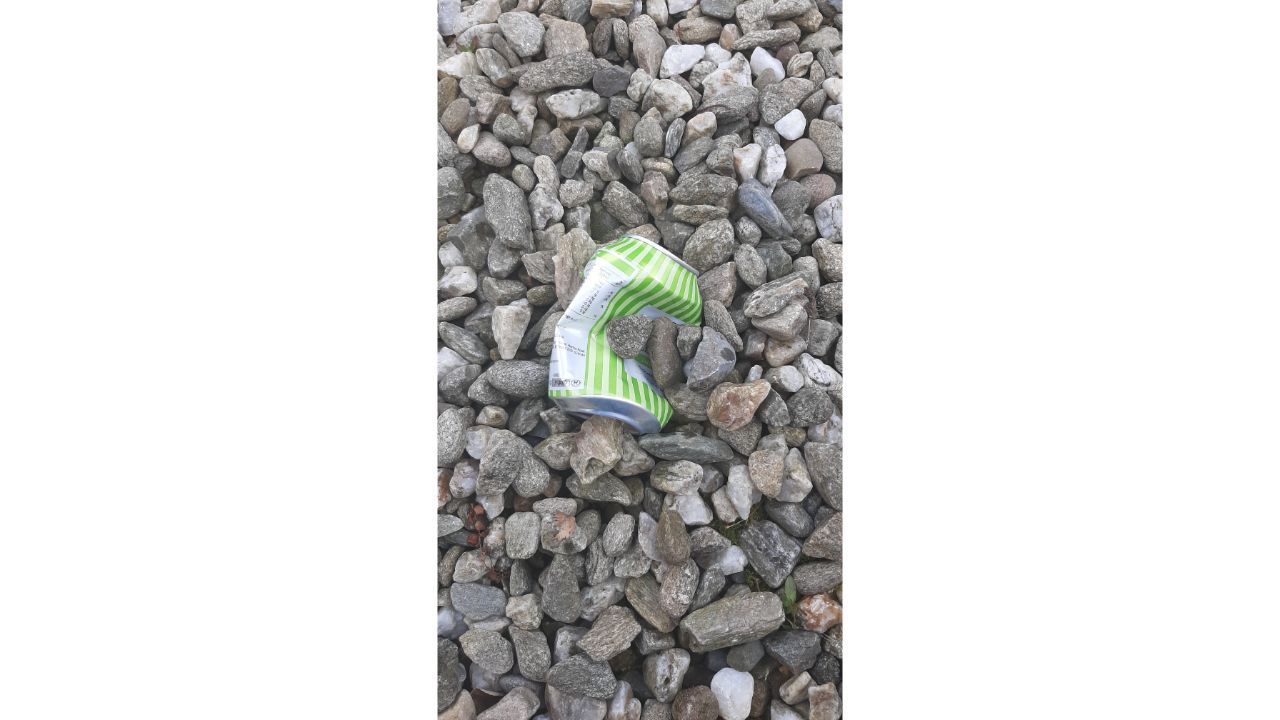Can: (532, 222, 714, 442)
